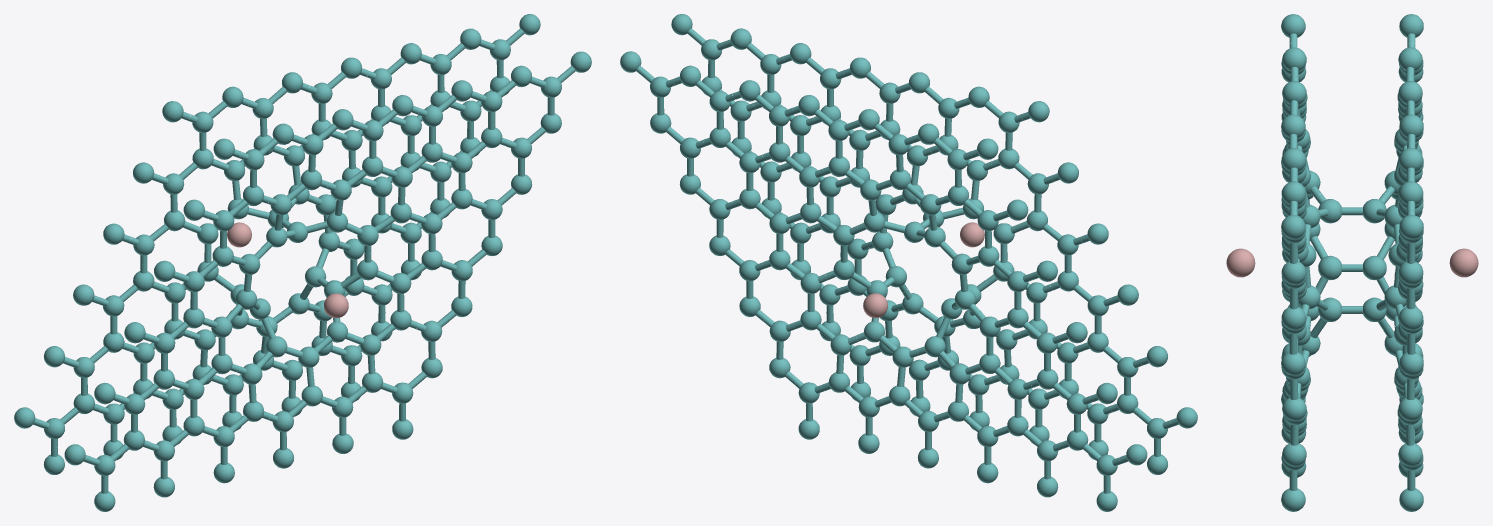
The model's file is BilayerGwRb.glb.
3 renders of one model, left to right at view 1: azimuth 30°, elevation 25°; view 2: azimuth 150°, elevation 25°; view 3: azimuth 270°, elevation 25°, orthographic. The views are drawn at different scales.
Visible parts, largest first — view 1: vmd_mol0_rep0; view 2: vmd_mol0_rep0; view 3: vmd_mol0_rep0.
Part boxes in pixels (x1,y1,x2,y2): vmd_mol0_rep0: (14,14,591,511); vmd_mol0_rep0: (620,14,1197,511); vmd_mol0_rep0: (1226,14,1478,511).
Bounding box in the file's own units: 1.55 × 0.9722 × 0.5617.
